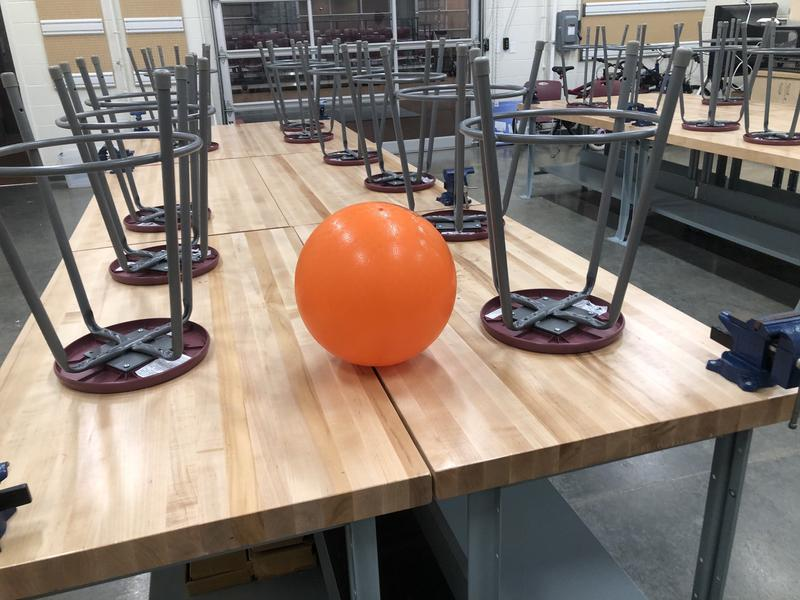ball: (294, 202, 455, 364)
